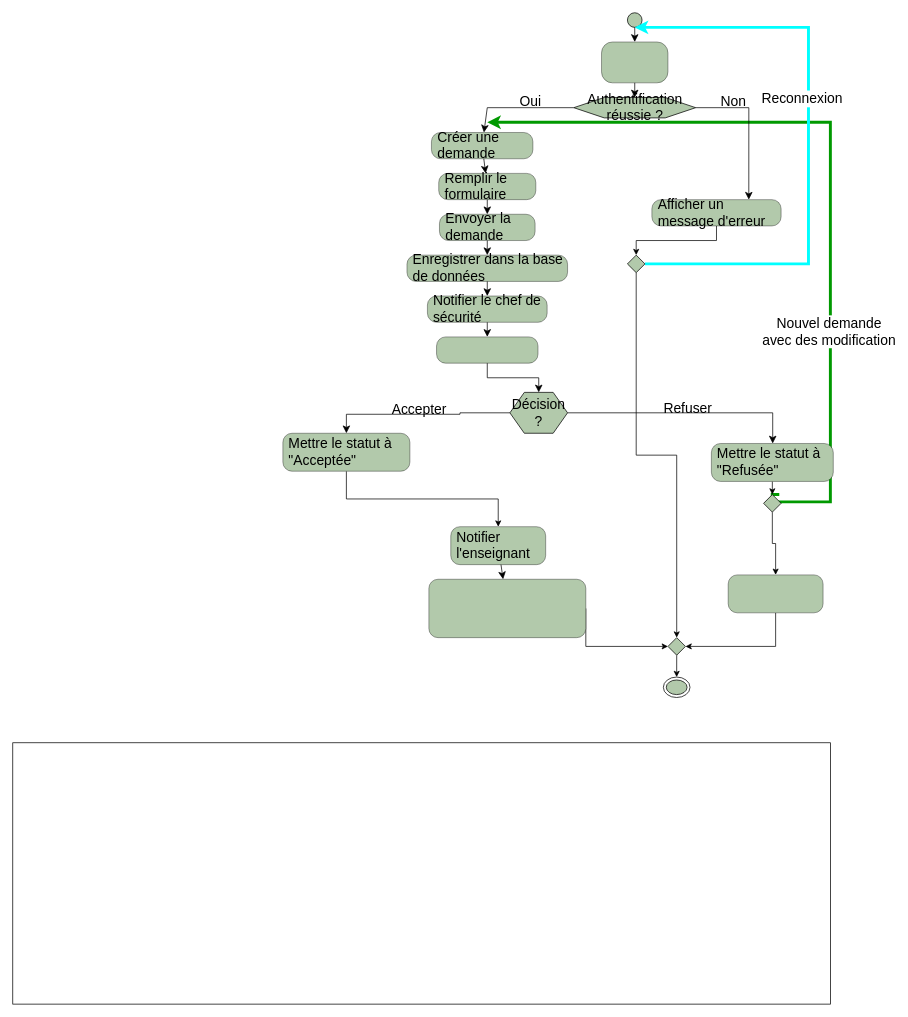
Some shapes in this 908 by 1017 pixel diagram are drawn without their labels. The centre of each missing label's shape, as x and y in pixels:
Abadont du reservation: (775,593)
Consulter la demande: (487,349)
fin: (676,687)
L'enseignant confirme la demande: (507,608)
Se connecter: (634,62)
